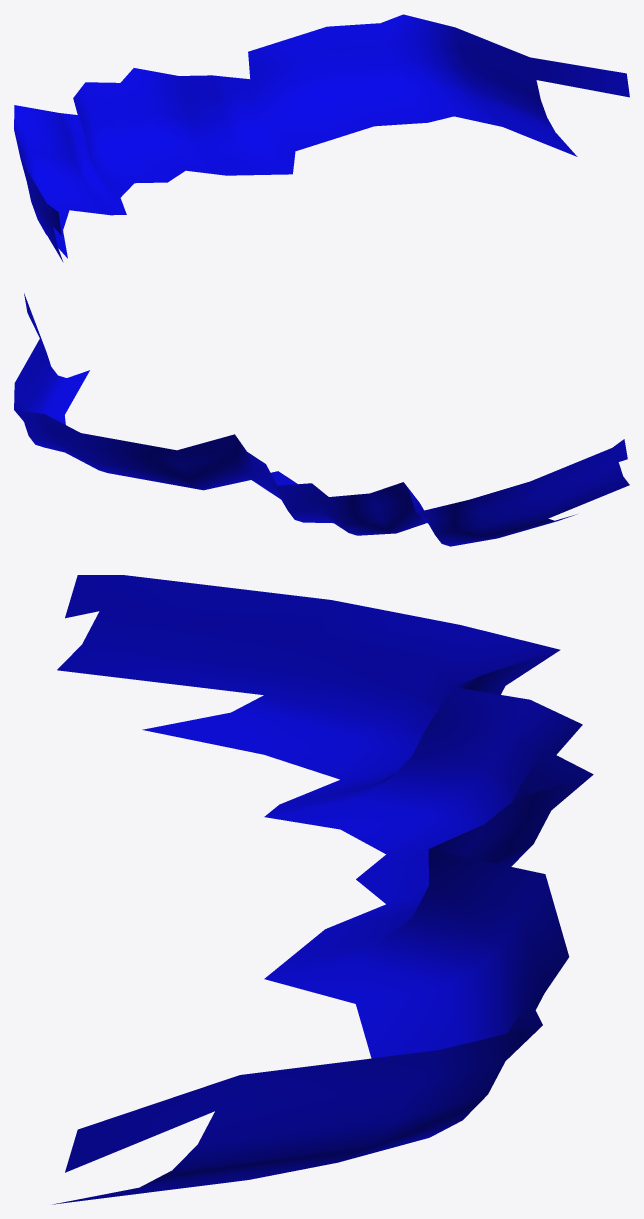
The model's file is astbottom.glb.
3 views of the same model, one above another, from view 1: azimuth 30°, elevation 25°; view 2: azimuth 150°, elevation 25°; view 3: azimuth 270°, elevation 25° (orthographic). The views are drawn at different scales.
Visible parts, largest first — view 1: astbottom; view 2: astbottom; view 3: astbottom.
Boxes of the visible parts, box(x1,y1,x2,y2) form: astbottom: box(14, 14, 629, 262); astbottom: box(14, 293, 629, 546); astbottom: box(52, 575, 593, 1204).
Size of the model in its own units: 68.7 by 7.5 by 28.47.
